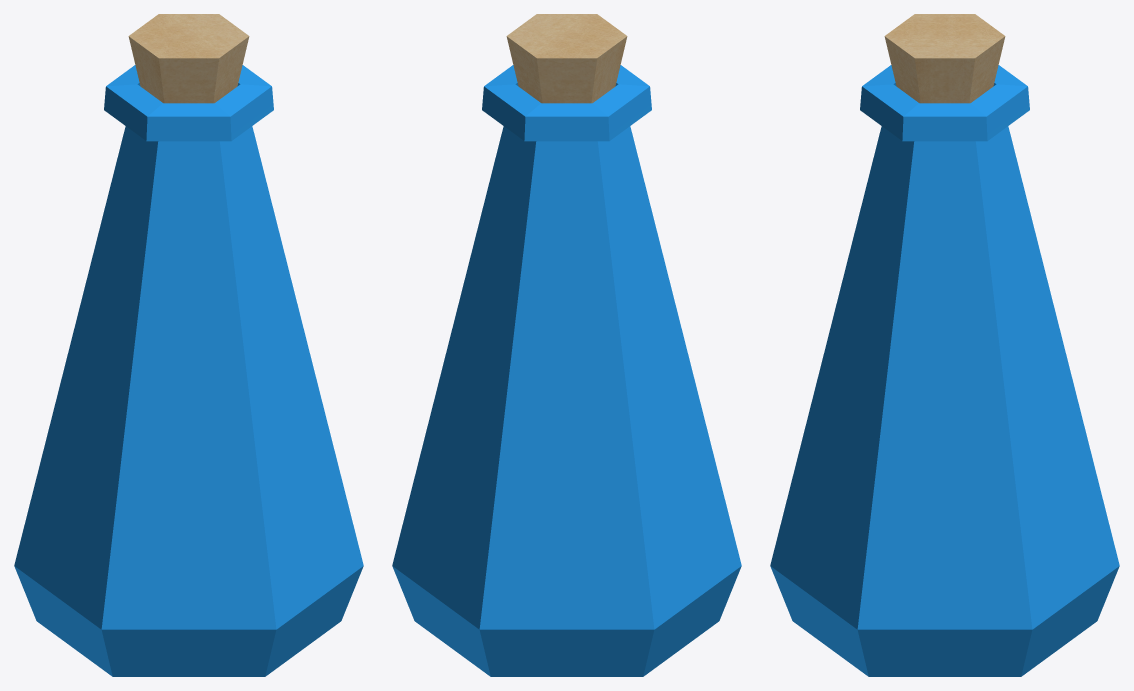
File: Potion_04.fbx
3 views of the same model, side by side, from view 1: azimuth 30°, elevation 25°; view 2: azimuth 150°, elevation 25°; view 3: azimuth 270°, elevation 25° (orthographic).
Parts seen in each view (by area): view 1: bottle-alchemy-f; view 2: bottle-alchemy-f; view 3: bottle-alchemy-f.
Part boxes in pixels (x1=…): bottle-alchemy-f: x1=14, y1=14, x2=363, y2=676; bottle-alchemy-f: x1=392, y1=14, x2=741, y2=676; bottle-alchemy-f: x1=770, y1=14, x2=1119, y2=676.
Size of the model in its own units: 92 by 196 by 106.
Materials: 2 (1 with a texture image).
